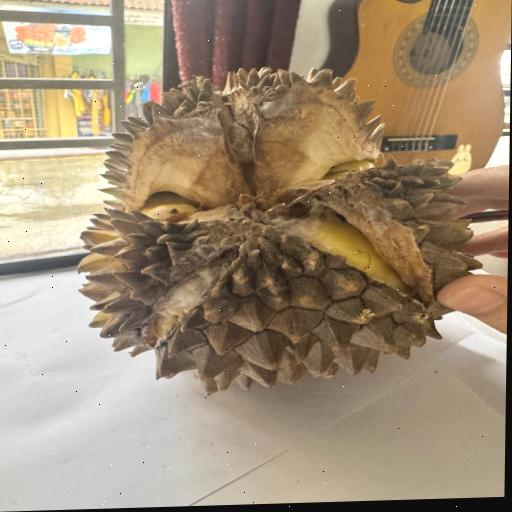rot: (46, 36, 498, 423)
